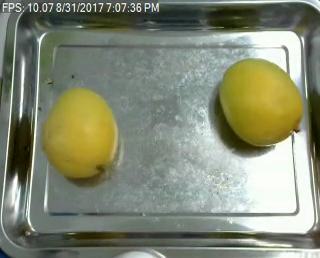Mango: (217, 59, 303, 149), (42, 87, 117, 179)
